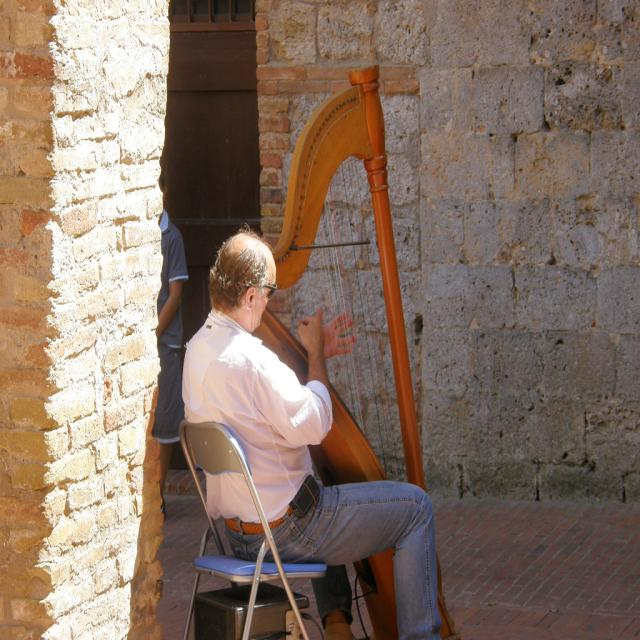harp: (226, 62, 458, 640)
